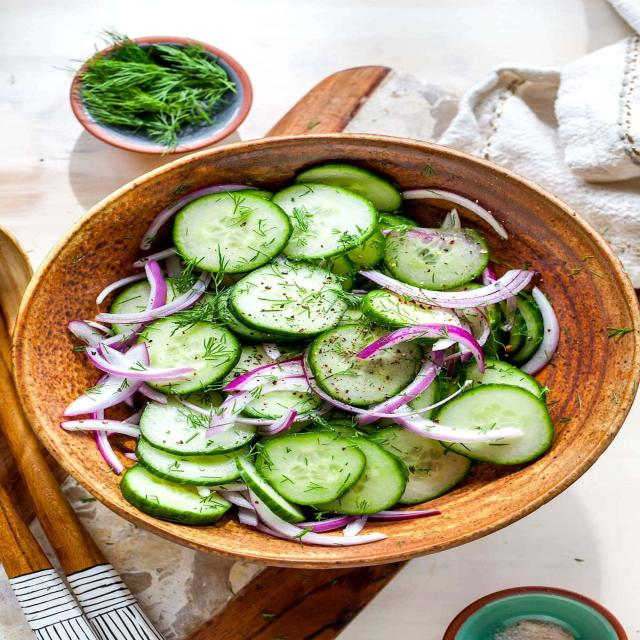Pickle: (173, 191, 293, 274), (229, 256, 348, 338), (435, 384, 553, 465), (271, 182, 379, 259), (138, 316, 242, 395), (255, 432, 366, 505), (382, 226, 490, 290), (140, 396, 255, 456), (120, 464, 231, 525)
